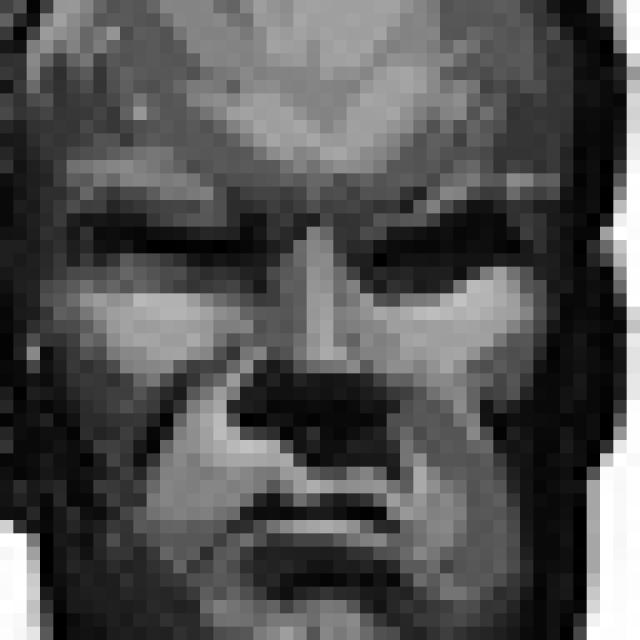disgust: (77, 157, 540, 626)
